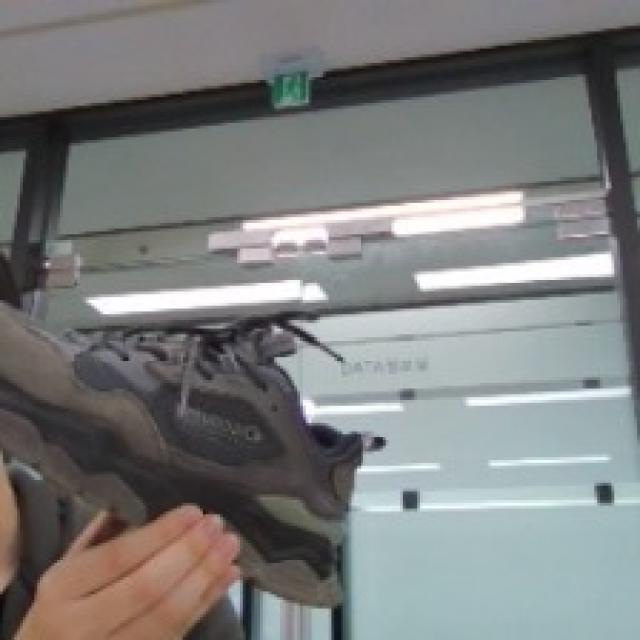shoe: (0, 270, 388, 617)
